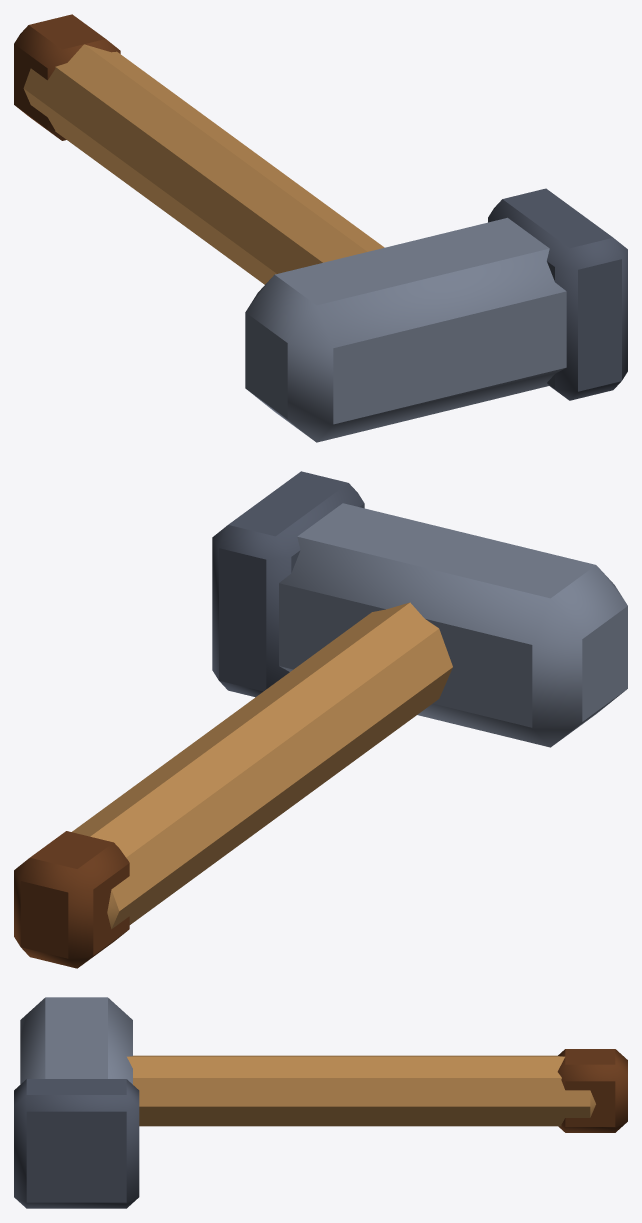
File: c_hammer.glb
3 views of the same model, one above another, from view 1: azimuth 30°, elevation 25°; view 2: azimuth 150°, elevation 25°; view 3: azimuth 270°, elevation 25° (orthographic). The views are drawn at different scales.
Parts seen in each view (by area): view 1: body; view 2: body; view 3: body.
Boxes of the visible parts, bbox=[...] form: body: bbox=[14, 14, 627, 442]; body: bbox=[14, 471, 627, 968]; body: bbox=[14, 997, 627, 1208].
Bounding box in the file's own units: 0.225 × 0.1 × 0.49.
